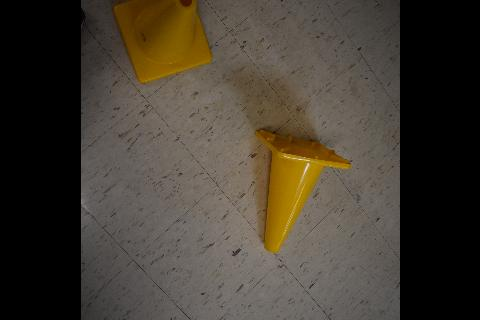cone: (253, 129, 350, 253), (111, 0, 213, 83)
